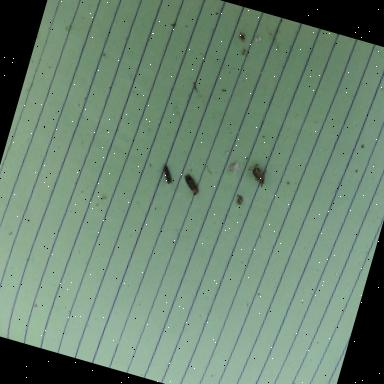pbw: (245, 160, 269, 188), (180, 174, 203, 197)
